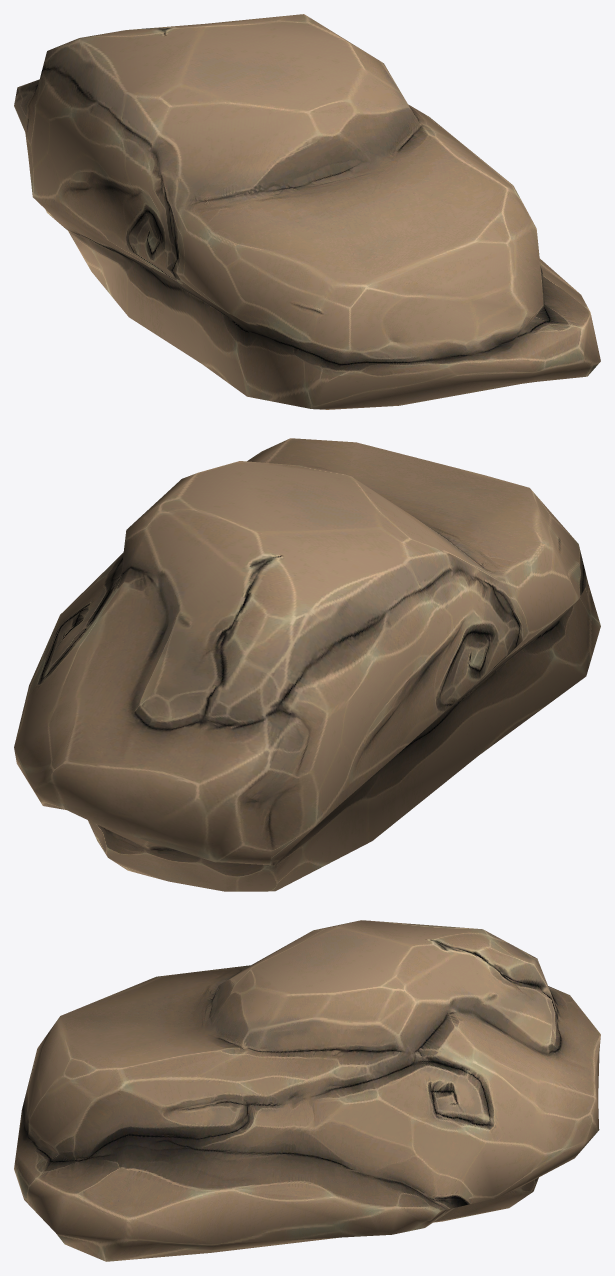
File: rockdesert.fbx
3 views of the same model, one above another, from view 1: azimuth 30°, elevation 25°; view 2: azimuth 150°, elevation 25°; view 3: azimuth 270°, elevation 25° (orthographic). The views are drawn at different scales.
Parts seen in each view (by area): view 1: node_id30; view 2: node_id30; view 3: node_id30.
Part boxes in pixels (bbox=[...]): node_id30: bbox=[14, 14, 600, 409]; node_id30: bbox=[14, 438, 600, 891]; node_id30: bbox=[14, 920, 600, 1261].
Size of the model in its own units: 0.512 by 0.3946 by 0.8441.
1 material, 1 textured.
